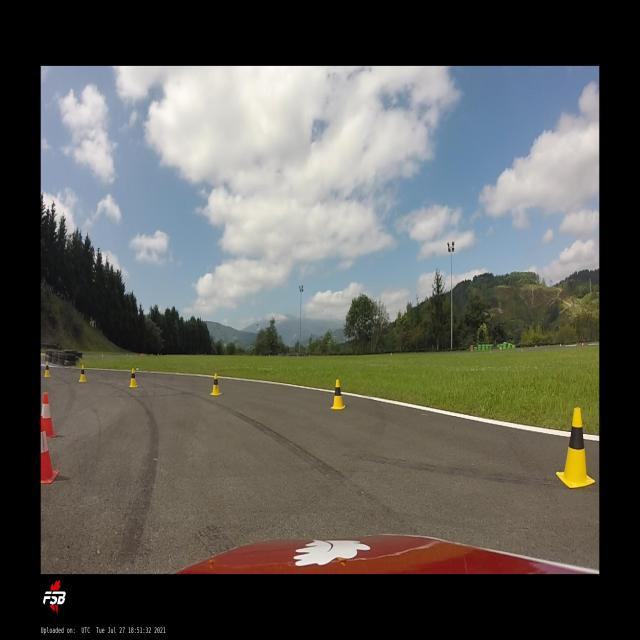orange_cone: (41, 425, 59, 485), (41, 392, 58, 438)
yellow_cone: (556, 407, 596, 488), (331, 379, 346, 409), (210, 373, 222, 395), (129, 368, 138, 388), (79, 363, 87, 382), (44, 361, 51, 377)
